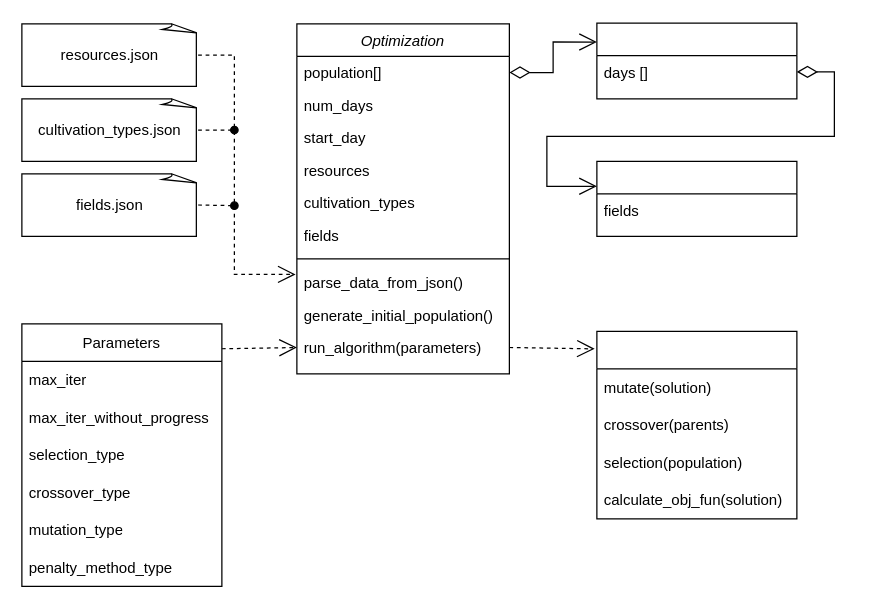
This 878x609 diagram has some shape labels left out. The shapes that lost their labels are listed below. From the top down, each one's box as (x1, y1, x2, y2) in pixels, then its label:
(596, 22, 797, 99): Solution
(596, 160, 797, 236): DaySolution
(596, 330, 797, 519): Operators
